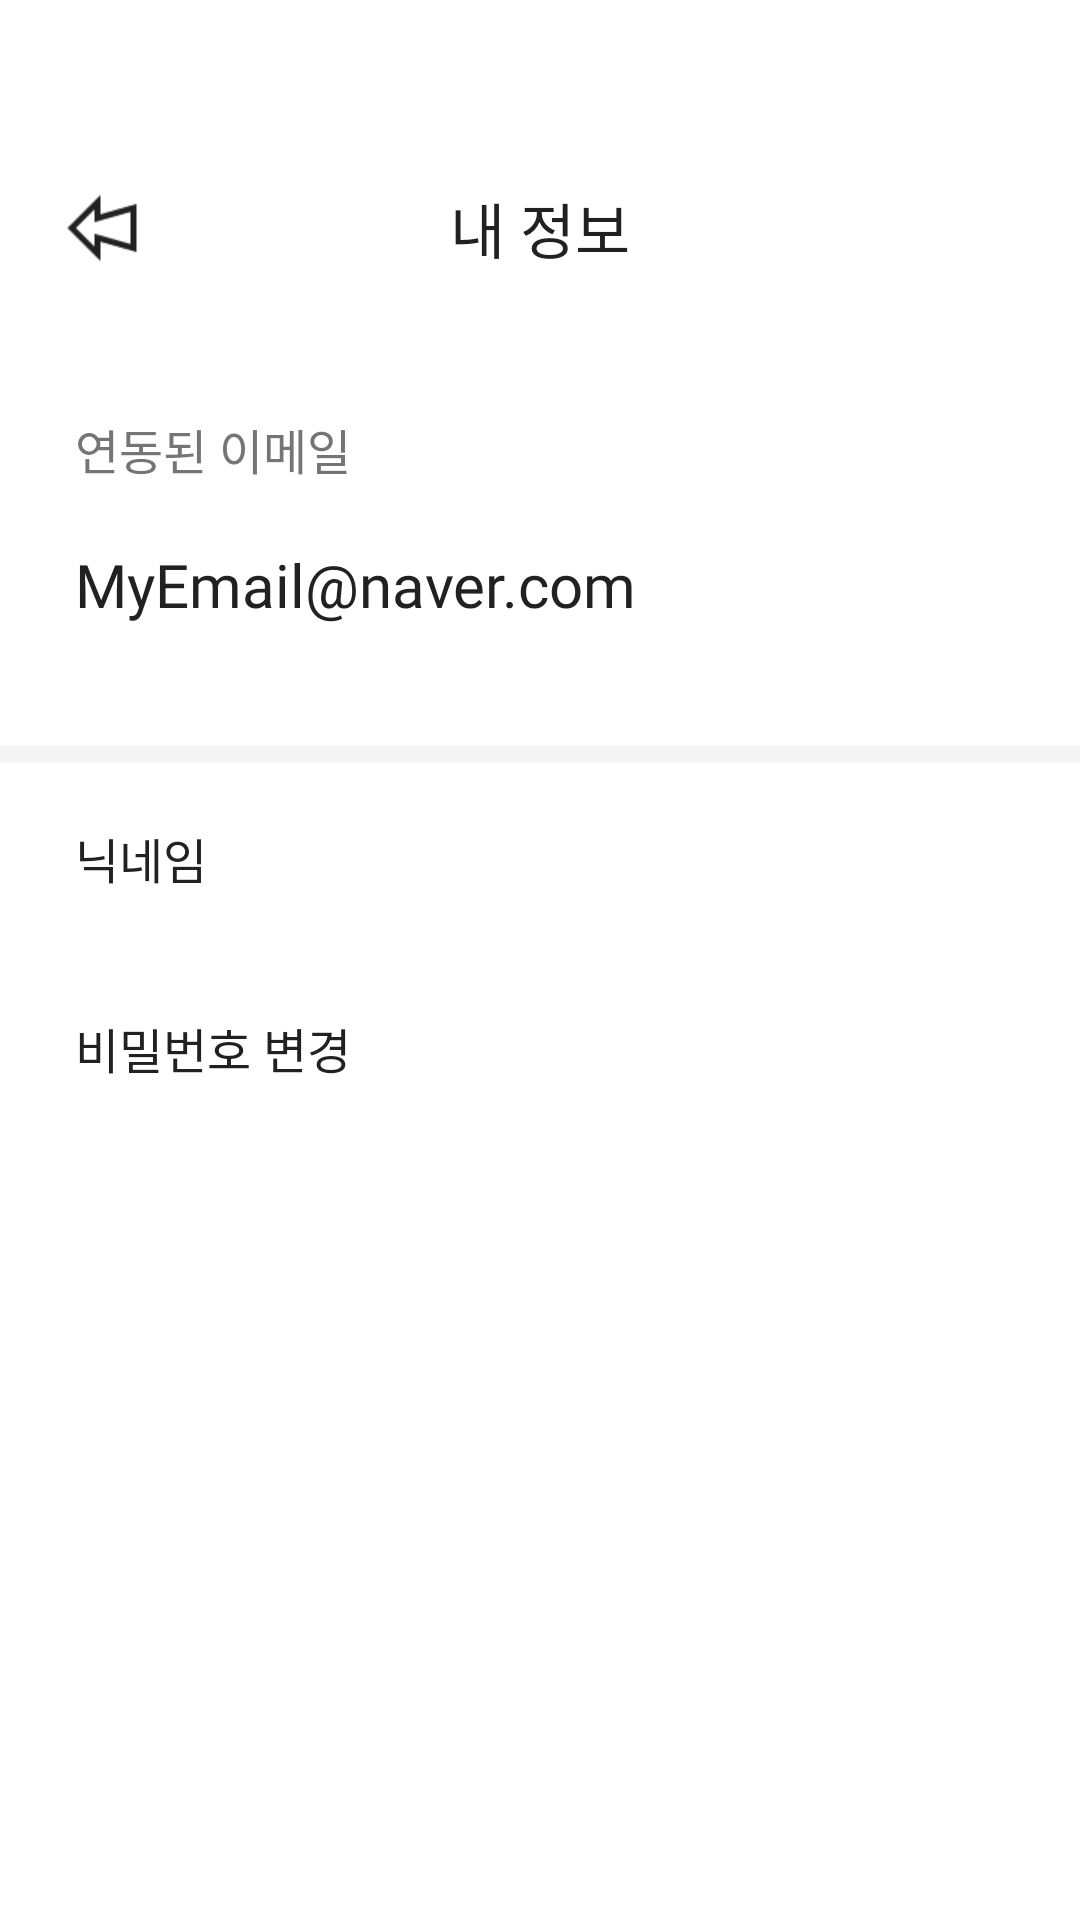

Where to tap for icons on this 1080 x 1920 app screen, as (x=x, y=y):
arrow left: (x=102, y=228)
